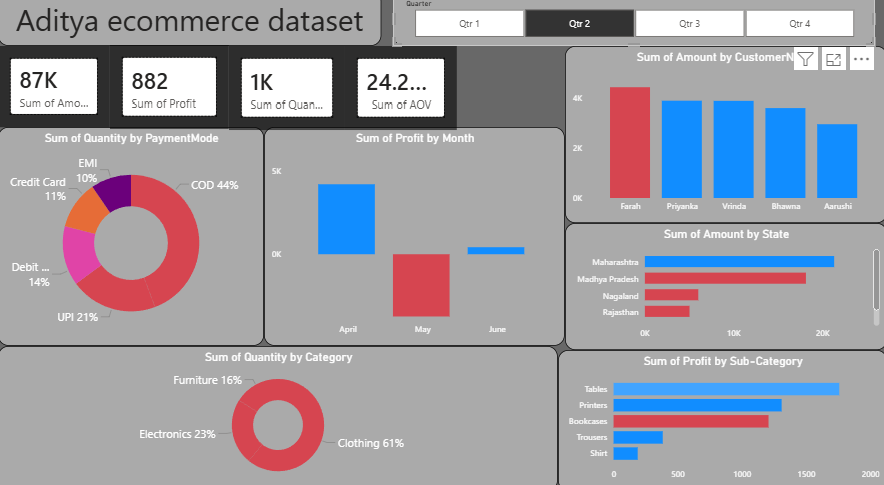

The page's visual inventory and layout, read from the dashboard file:
{"tool":"powerbi","page":{"name":"Page 1","canvas":[1280,720],"ordinal":0},"visuals":[{"type":"textbox","box":[0,0,551.5,79.2],"z":0},{"type":"columnChart","fields":{"Category":["power bi data set 2.Order Date.Variation.Date Hierarchy.Month"],"Y":["Sum(power bi data set 1.Profit)"]},"box":[383,195.8,433.4,315.4],"z":1000},{"type":"barChart","fields":{"Category":["power bi data set 1.Sub-Category"],"Y":["Sum(power bi data set 1.Profit)"]},"box":[806.4,517,473.8,203],"z":2000},{"type":"donutChart","fields":{"Category":["power bi data set 1.Category"],"Y":["Sum(power bi data set 1.Quantity)"]},"box":[0,511.2,806.4,208.8],"z":3000},{"type":"donutChart","fields":{"Y":["Sum(power bi data set 1.Quantity)"],"Category":["power bi data set 1.PaymentMode"]},"box":[0,195.8,383,315.4],"z":4000},{"type":"cardVisual","fields":{"Data":["Sum(power bi data set 1.Amount)"]},"box":[0,79.2,161.3,116.6],"z":5000},{"type":"cardVisual","fields":{"Data":["Sum(power bi data set 1.Profit)"]},"box":[161.3,77.8,171.4,121],"z":6000},{"type":"cardVisual","fields":{"Data":["Sum(power bi data set 1.Quantity)"]},"box":[332.6,79.2,167,121],"z":7000},{"type":"cardVisual","fields":{"Data":["Sum(power bi data set 1.AOV)"]},"box":[499.7,79.2,161.3,121],"z":8000},{"type":"barChart","fields":{"Category":["power bi data set 2.State"],"Y":["Sum(power bi data set 1.Amount)"]},"box":[816.5,334.1,463.7,182.9],"z":9000},{"type":"columnChart","fields":{"Category":["power bi data set 2.CustomerName"],"Y":["Sum(power bi data set 1.Amount)"]},"box":[816.5,79.2,463.7,254.9],"z":10000},{"type":"slicer","fields":{"Values":["power bi data set 2.Order Date.Variation.Date Hierarchy.Quarter"]},"box":[568.8,0,694.1,79.2],"z":11000}]}

Visuals, with their boxes in screenshot pixels (x1, y1, x2, y2), scaled from the page's 1280x720 canvas onto the 884x485 screenshot:
textbox: x1=0 y1=0 x2=381 y2=53
columnChart - power bi data set 2.Order Date.Variation.Date Hierarchy.Month x Sum(power bi data set 1.Profit): x1=265 y1=132 x2=564 y2=344
barChart - power bi data set 1.Sub-Category x Sum(power bi data set 1.Profit): x1=557 y1=348 x2=883 y2=484
donutChart - power bi data set 1.Category x Sum(power bi data set 1.Quantity): x1=0 y1=344 x2=557 y2=484
donutChart - Sum(power bi data set 1.Quantity) x power bi data set 1.PaymentMode: x1=0 y1=132 x2=265 y2=344
cardVisual - Sum(power bi data set 1.Amount): x1=0 y1=53 x2=111 y2=132
cardVisual - Sum(power bi data set 1.Profit): x1=111 y1=52 x2=230 y2=134
cardVisual - Sum(power bi data set 1.Quantity): x1=230 y1=53 x2=345 y2=135
cardVisual - Sum(power bi data set 1.AOV): x1=345 y1=53 x2=457 y2=135
barChart - power bi data set 2.State x Sum(power bi data set 1.Amount): x1=564 y1=225 x2=883 y2=348
columnChart - power bi data set 2.CustomerName x Sum(power bi data set 1.Amount): x1=564 y1=53 x2=883 y2=225
slicer - power bi data set 2.Order Date.Variation.Date Hierarchy.Quarter: x1=393 y1=0 x2=872 y2=53
